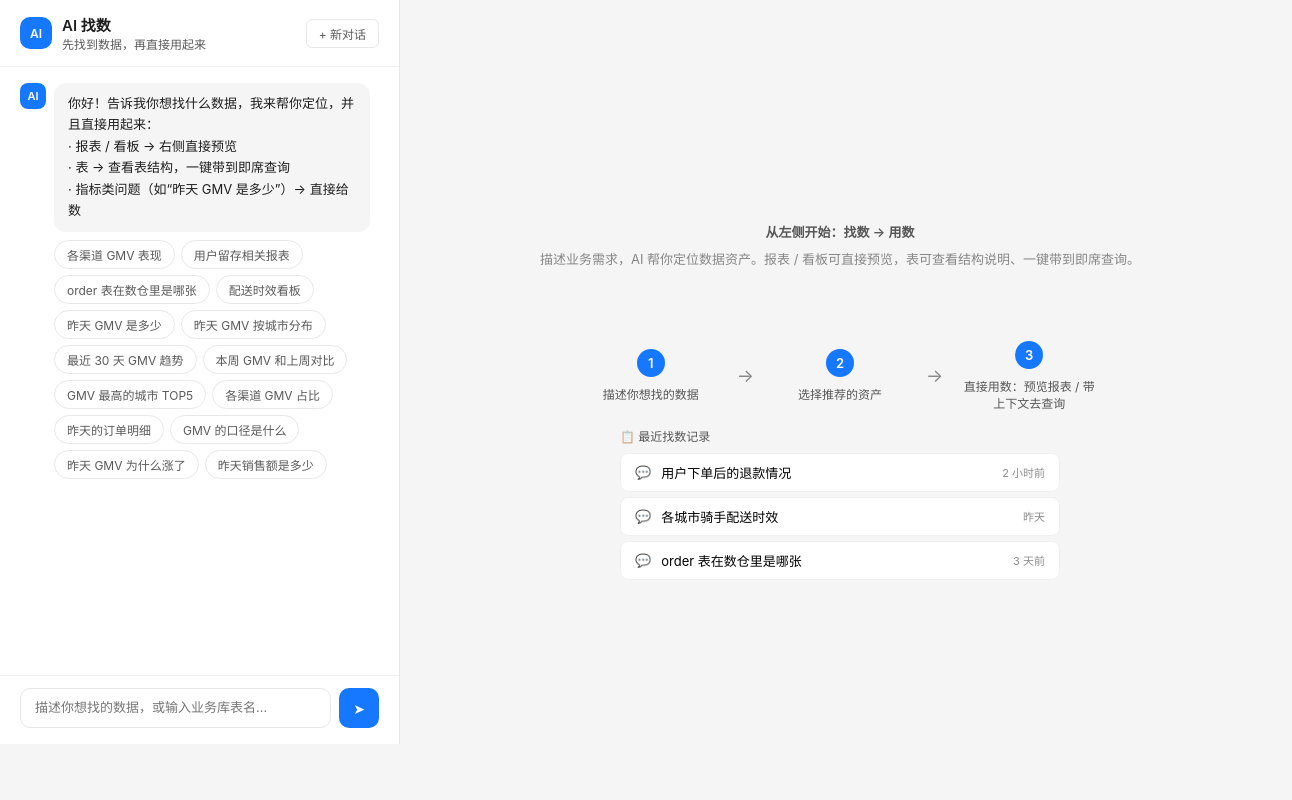
Test: AIFindDataPage › 找资产：资产卡片按类型给用数按钮，表卡打开表信息页
In the text box with class "ai-find__input": (176, 708) [20,688,331,728], type "各渠道 GMV 表现"
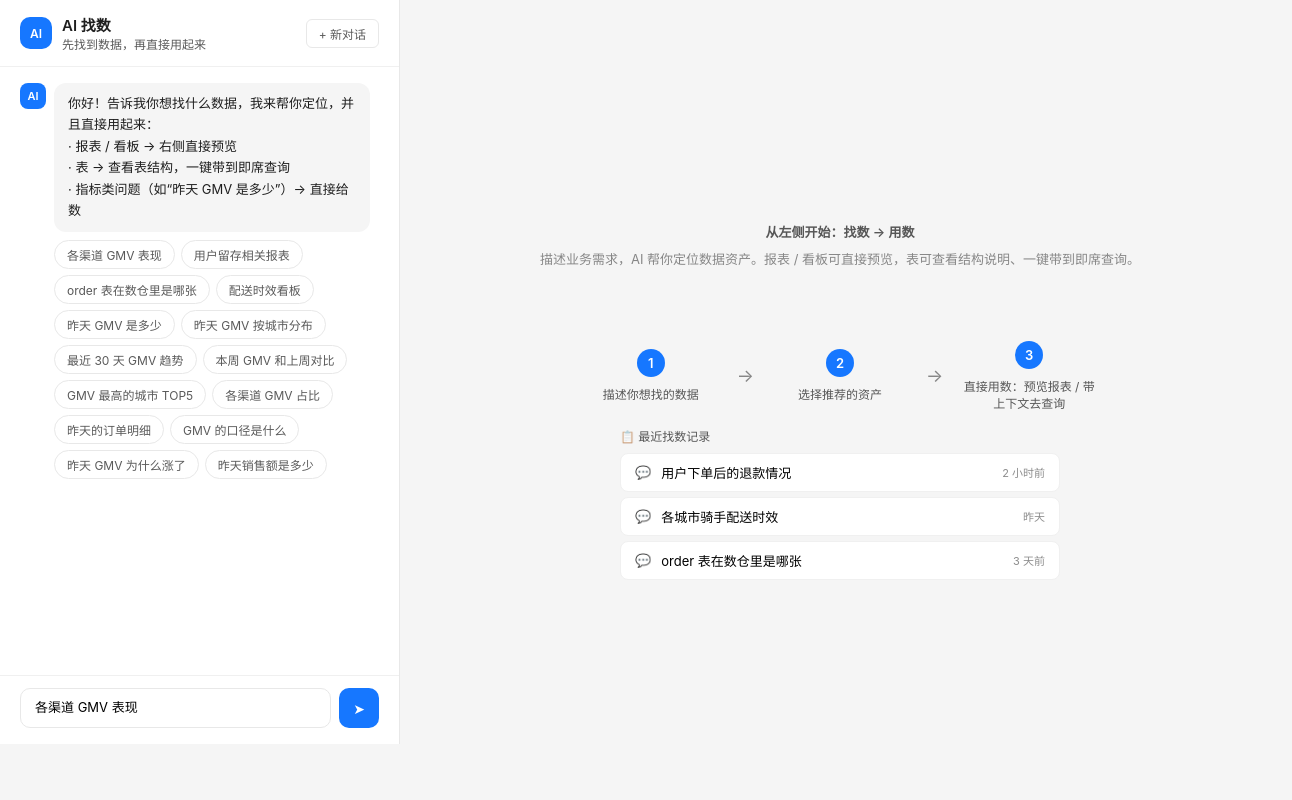
Press Enter in the text box with class "ai-find__input", box [20,688,331,728]
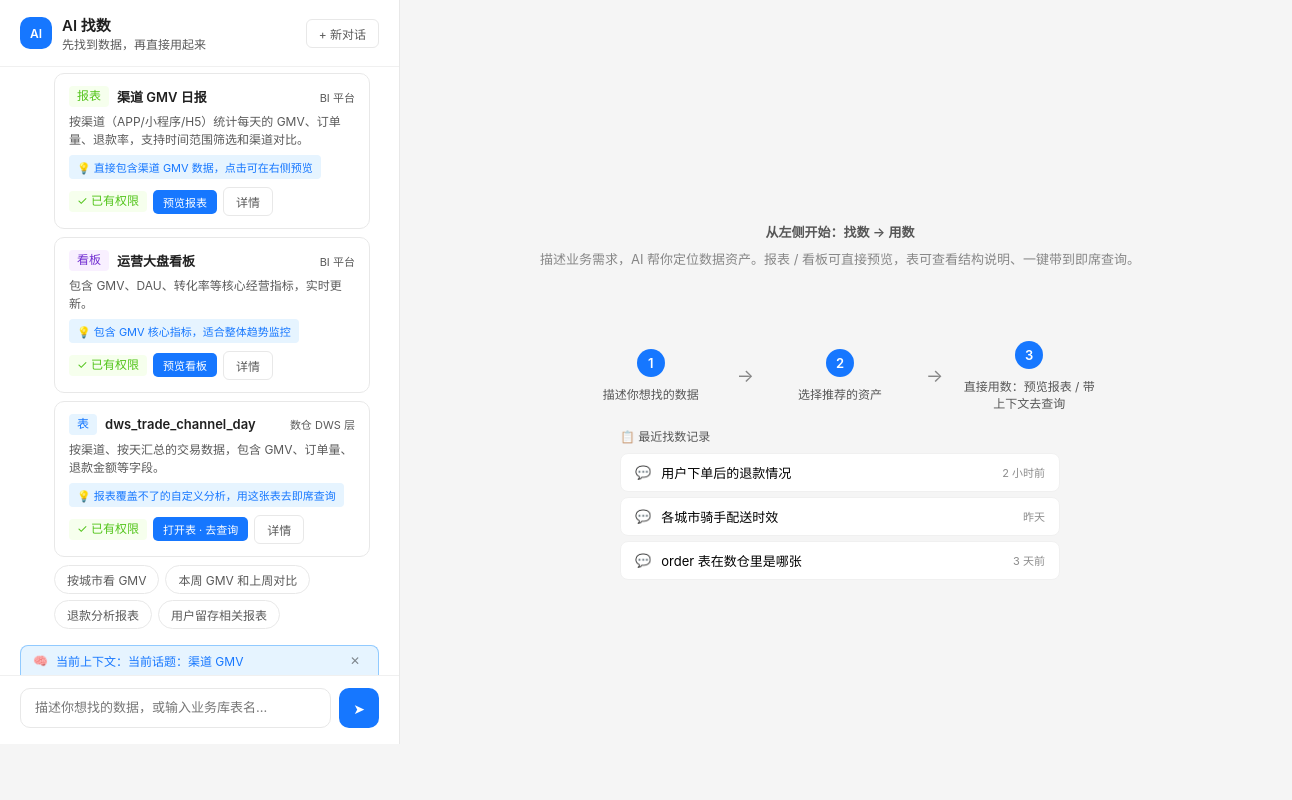
Result: the number of buttons with class "ai-find__result-card" is 3 at [54,73,370,229]; [54,237,370,393]; [54,401,370,557]
Result: the button "预览报表" is shown at [153,190,217,214]
Result: the button "预览看板" is shown at [153,354,217,378]
Click the button "打开表 · 去查询": (201, 529) [153,517,248,541]
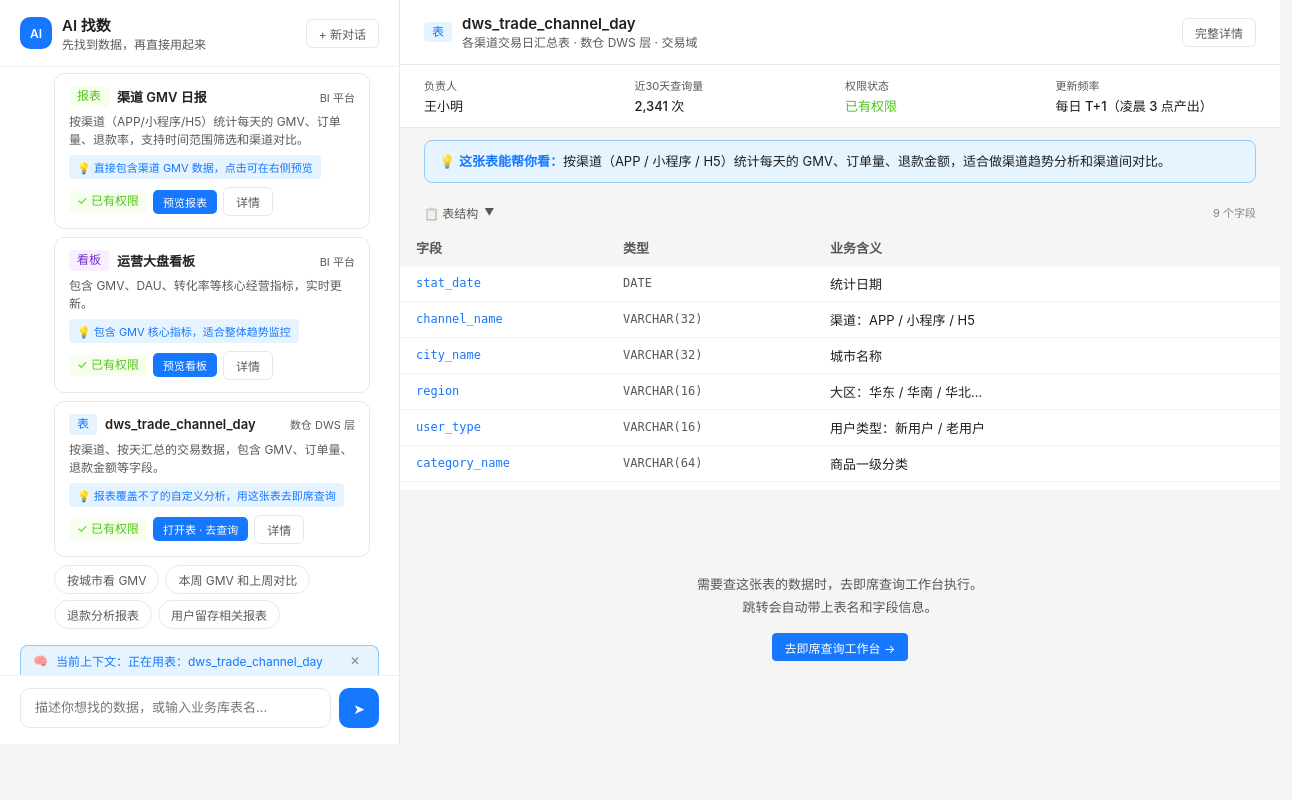
Result: the text "📋 表结构" is shown at [424,204,478,221]
Result: the button "去即席查询工作台 →" is shown at [772,633,908,661]
Result: the text "channel_name" is shown at [400,301,607,337]
